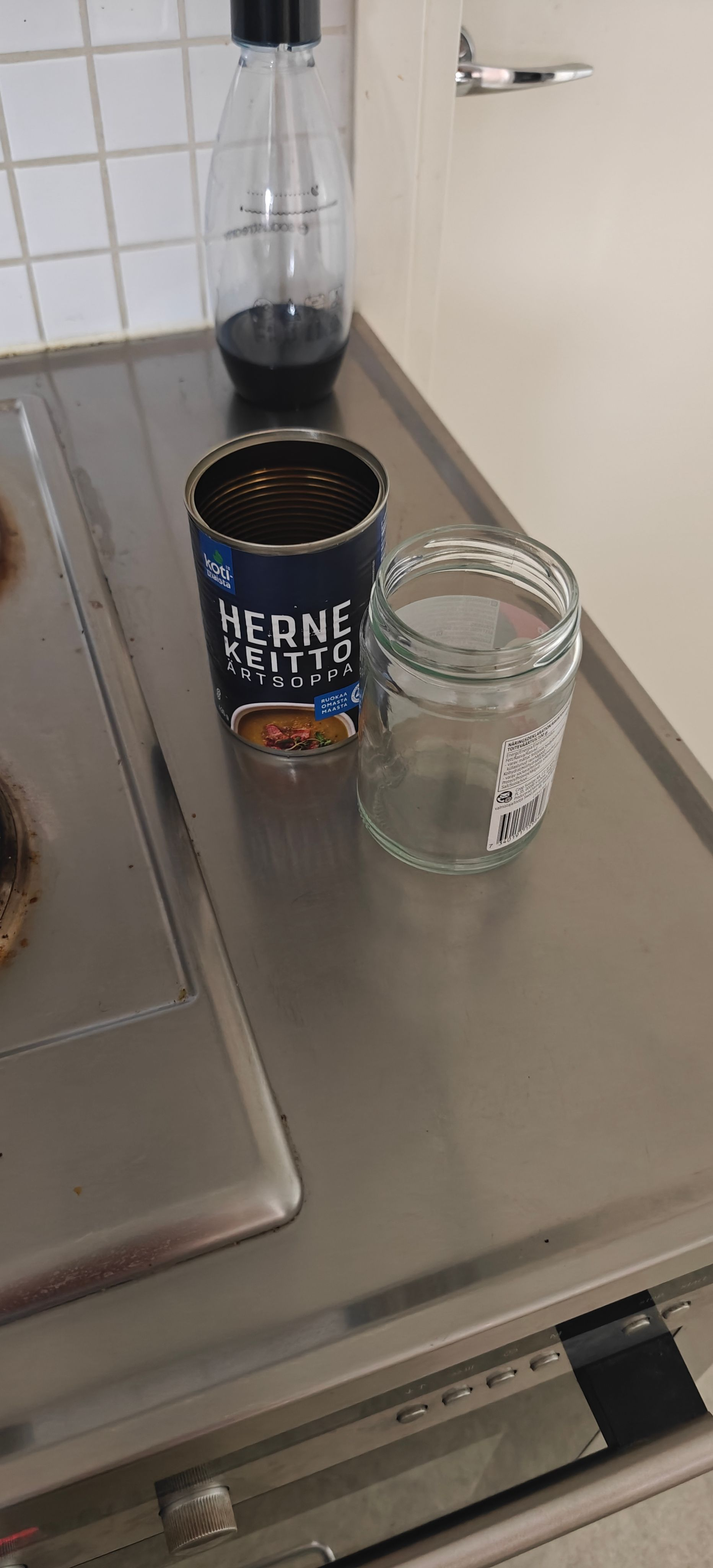Konservburk: (184, 427, 390, 757)
